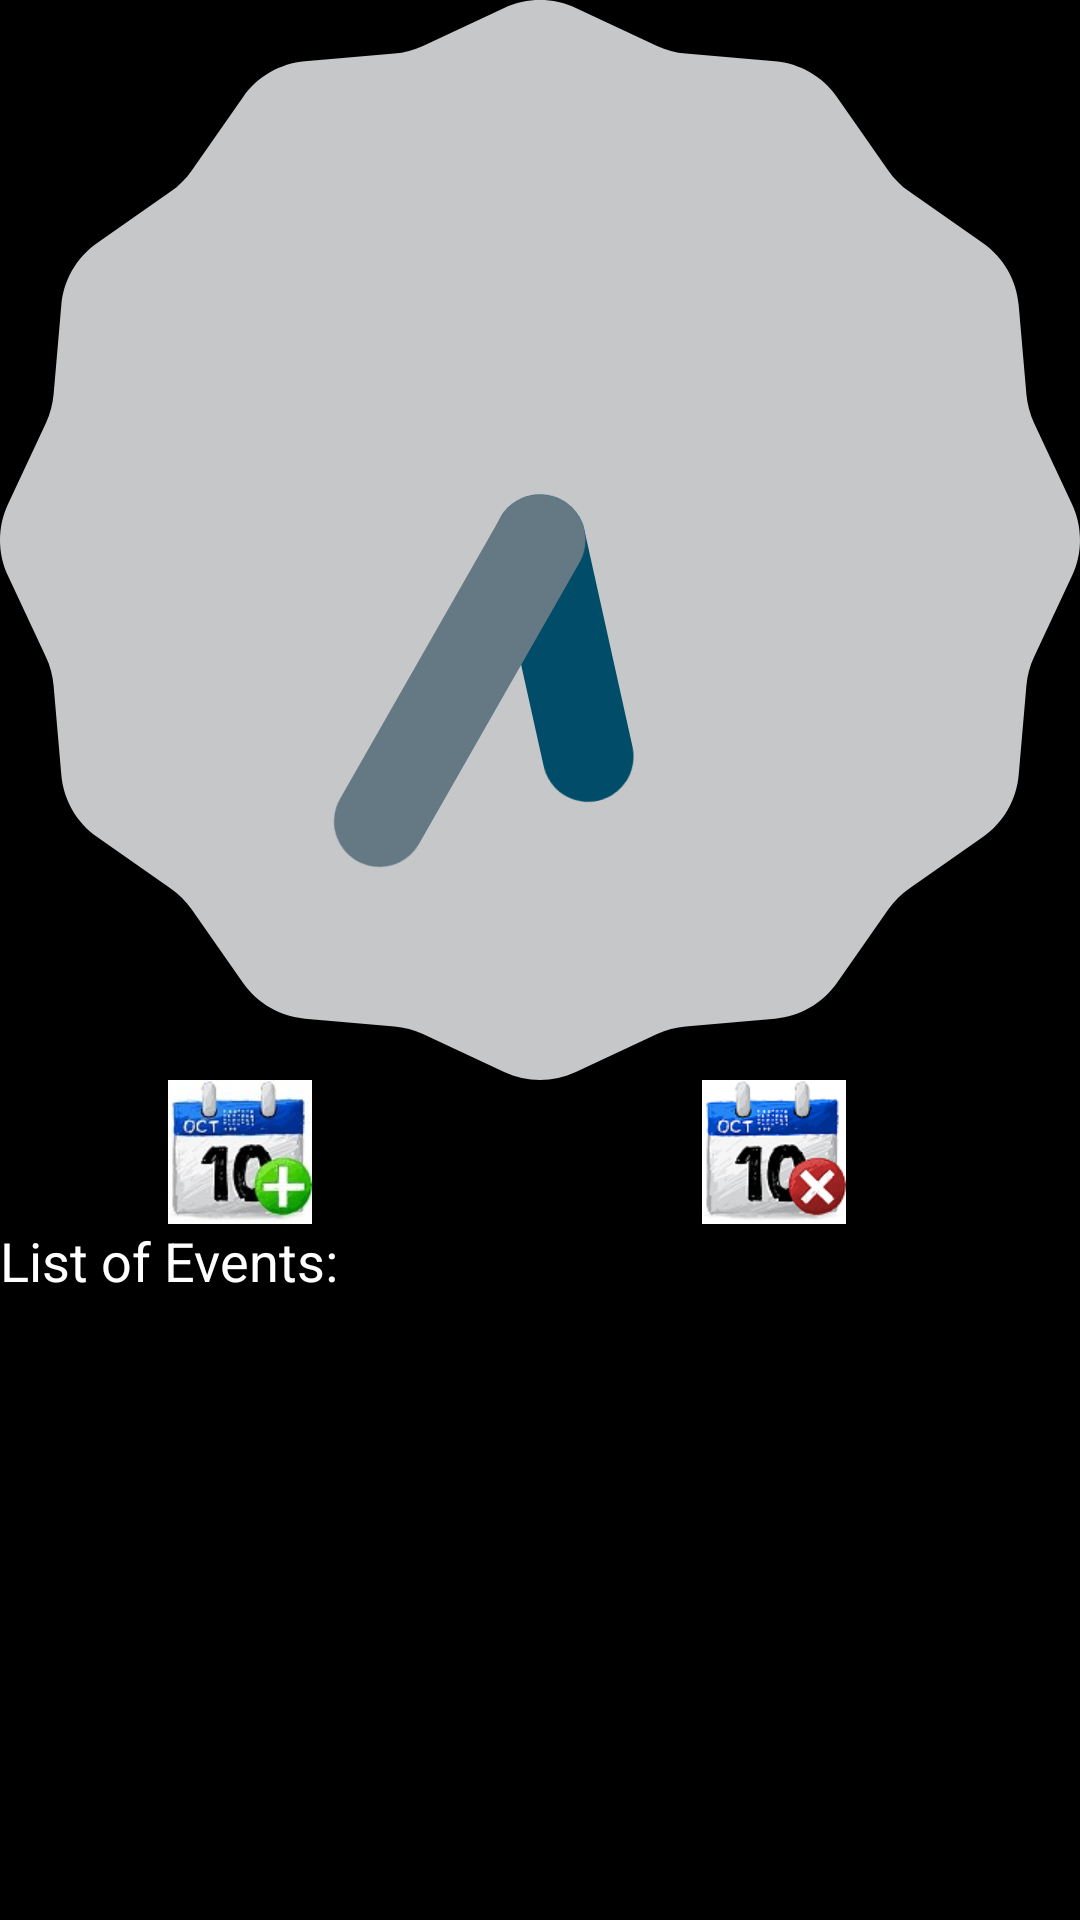

Locate icon controls on the screen. Image size 1080×1920, boxes as bbox=[x1, y1, x2, y2].
add: bbox=[168, 1080, 312, 1224]
del: bbox=[702, 1080, 846, 1224]
